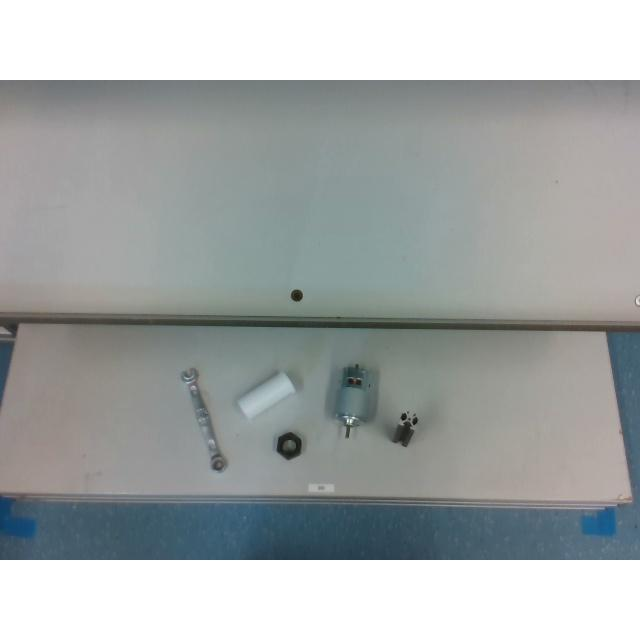F20_20_B: (390, 410, 418, 446)
M20: (276, 432, 300, 460)
Motor2: (332, 364, 376, 436)
Spacer: (237, 372, 295, 420)
Wrench: (180, 367, 228, 471)
